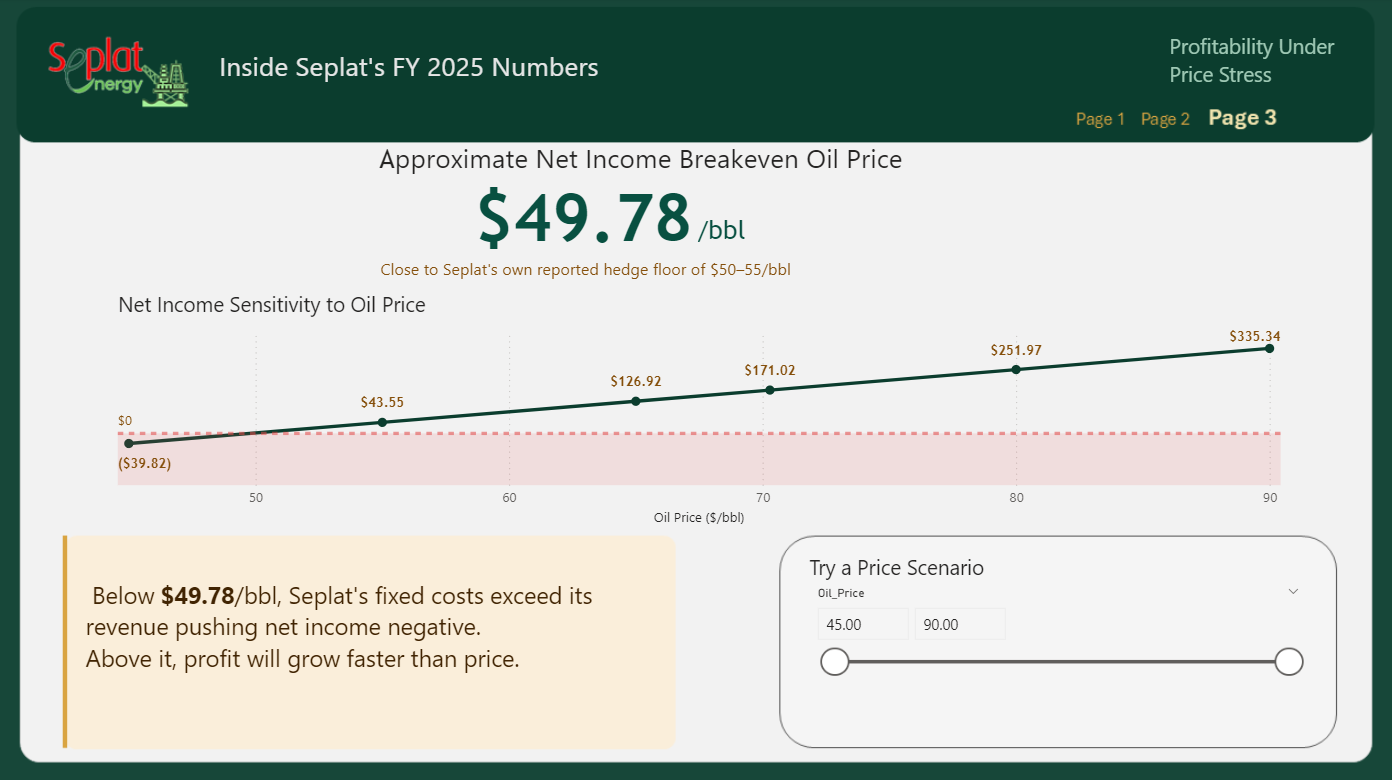

Layout of this report page (visuals, bound fields, positions):
{"tool":"powerbi","page":{"name":"Page 3","canvas":[1280,720],"ordinal":2},"visuals":[{"type":"pageNavigator","box":[984.9,80.2,182.6,50],"z":0},{"type":"card","fields":{"Values":["Sensitivity_Scenarios.Breakeven Oil Price"]},"box":[411.6,130.2,254.3,130.4],"z":0,"group":"g1"},{"type":"group","id":"g1","title":"Group 1","box":[411.6,130.2,326.7,130.2],"z":1000},{"type":"textbox","box":[637.4,154.3,101.2,83.7],"z":1500,"group":"g1"},{"type":"textbox","box":[348.5,124.9,514.6,50.8],"z":2000},{"type":"textbox","box":[348.8,231.4,415.1,41.9],"z":3000},{"type":"lineChart","title":"Net Income Sensitivity to Oil Price","fields":{"Category":["Sensitivity_Scenarios.Oil_Price"],"Y":["Sum(Sensitivity_Scenarios.Amount)"]},"box":[111.6,265.1,1065.1,219.8],"z":4000},{"type":"textbox","box":[81.4,504.7,534.9,161.6],"z":5000},{"type":"textbox","box":[1065.1,26.7,175.6,61.6],"z":6000},{"type":"textbox","box":[203.5,40.7,383.7,45.3],"z":7000},{"type":"slicer","title":"Try a Price Scenario","fields":{"Values":["Sensitivity_Scenarios.Oil_Price"]},"box":[738.4,504.7,461.6,150],"z":8000},{"type":"pageNavigator","box":[976.7,86,198.8,40.7],"z":9000}]}

Visuals, with their boxes in screenshot pixels (x1, y1, x2, y2), scaled from the page's 1280x720 canvas onto the 1392x780 screenshot:
pageNavigator: select_region(1071, 87, 1270, 141)
card - Sensitivity_Scenarios.Breakeven Oil Price: select_region(448, 141, 724, 282)
"Group 1" group: select_region(448, 141, 803, 282)
textbox: select_region(693, 167, 803, 258)
textbox: select_region(379, 135, 939, 190)
textbox: select_region(379, 251, 831, 296)
"Net Income Sensitivity to Oil Price" lineChart: select_region(121, 287, 1280, 525)
textbox: select_region(89, 547, 670, 722)
textbox: select_region(1158, 29, 1349, 96)
textbox: select_region(221, 44, 639, 93)
"Try a Price Scenario" slicer: select_region(803, 547, 1305, 709)
pageNavigator: select_region(1062, 93, 1278, 137)
